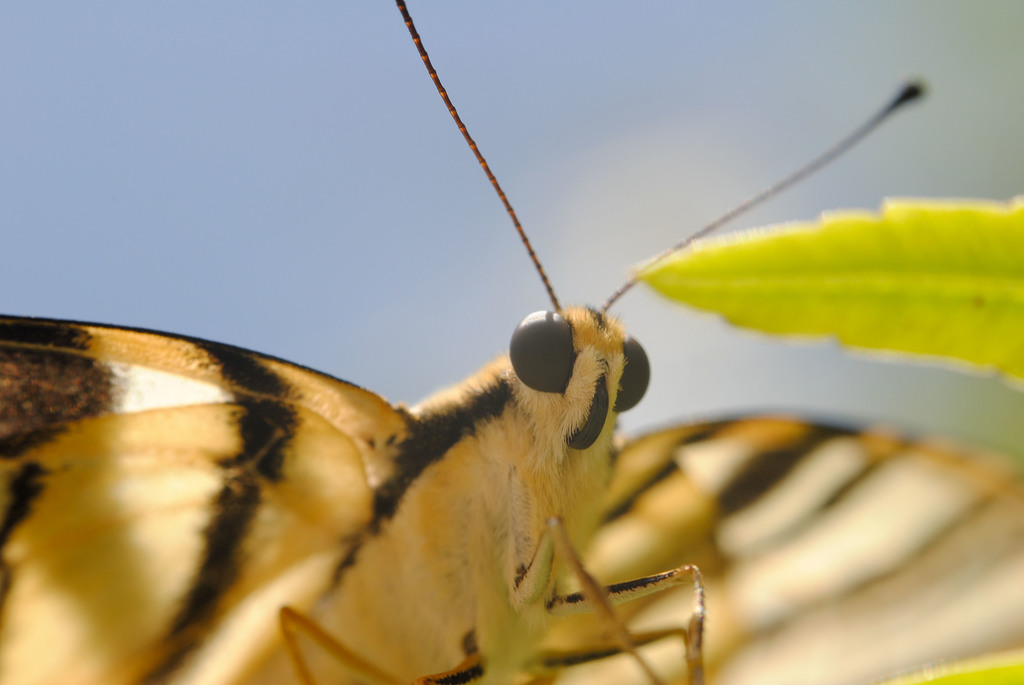Butterfly: (1, 233, 1024, 685)
